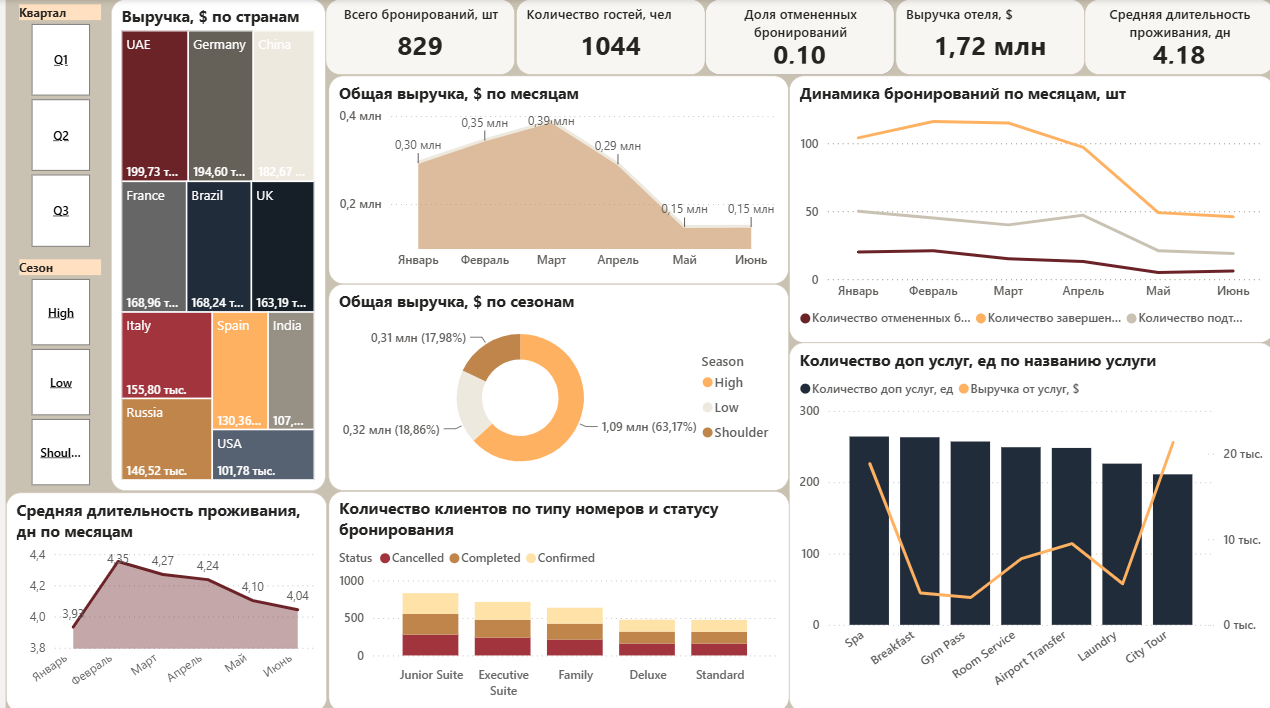

The page's visual inventory and layout, read from the dashboard file:
{"tool":"powerbi","page":{"name":"Отчет по бронированиям","canvas":[1280,720],"ordinal":0},"visuals":[{"type":"card","title":"Всего бронирований, шт ","fields":{"Values":["Таблица мер.Количество бронирований"]},"box":[322.9,0,191.6,76.8],"z":0},{"type":"card","title":"Количество гостей, чел","fields":{"Values":["Таблица мер.Количество клиентов, чел"]},"box":[514.5,0,191.6,76.8],"z":1000},{"type":"card","title":"Средняя длительность проживания, дн","fields":{"Values":["Количество доп услуг, ед.Средняя длительность проживания"]},"box":[1088.4,0,191.6,76.8],"z":2000},{"type":"card","title":"Выручка отеля, $","fields":{"Values":["Таблица мер.Выручка общая"]},"box":[897.8,0,191.6,76.8],"z":3000},{"type":"slicer","fields":{"Values":["Calendar.Квартал"]},"box":[0,0,108.9,256.8],"z":4000},{"type":"slicer","fields":{"Values":["Bookings.Season"]},"box":[0,256.8,108.9,240.2],"z":5000},{"type":"areaChart","title":"Общая выручка, $ по месяцам","fields":{"Category":["Calendar.Месяц"],"Y":["Таблица мер.Выручка общая"]},"box":[325.6,77.2,464.9,210.5],"z":6000},{"type":"columnChart","title":"Количество клиентов по типу номеров и статусу бронирования","fields":{"Category":["Rooms.RoomType"],"Series":["Bookings.Status"],"Y":["Таблица мер.Количество клиентов, чел"]},"box":[325,496.7,465,223.3],"z":7000},{"type":"treemap","title":"Выручка, $ по странам","fields":{"Group":["Clients.Country"],"Values":["Таблица мер.Выручка общая"]},"box":[106,0,216.5,496.7],"z":8000},{"type":"lineStackedColumnComboChart","title":"Количество доп услуг, ед по названию услуги ","fields":{"Category":["ServicesCatalog.ServiceName"],"Y":["Таблица мер.Количество доп услуг, ед"],"Y2":["Таблица мер.Выручка от услуг (в периоде), $"]},"box":[790,346.7,490,373.3],"z":9000},{"type":"areaChart","title":"Средняя длительность проживания, дн по месяцам","fields":{"Category":["Calendar.Месяц"],"Y":["Таблица мер.Средняя длительность проживания, дней"]},"box":[0,498,324,222],"z":10000},{"type":"card","title":"Доля отмененных бронирований","fields":{"Values":["Таблица мер.Доля отмененных бронирований"]},"box":[706.1,0,191.6,76.8],"z":11000},{"type":"lineChart","title":"Динамика бронирований по месяцам, шт ","fields":{"Category":["Calendar.Месяц"],"Y":["Таблица мер.Количество отмененных бронирований, шт","Таблица мер.Количество законченных бронирований, шт","Таблица мер.Количество подтвержденных бронирований, шт"]},"box":[790,76.7,490,270],"z":12000},{"type":"donutChart","title":"Общая выручка, $ по сезонам","fields":{"Category":["Bookings.Season"],"Y":["Таблица мер.Выручка общая"]},"box":[325.6,287.7,464.9,209],"z":13000}]}

Visuals, with their boxes in screenshot pixels (x1, y1, x2, y2), scaled from the page's 1280x720 canvas onto the 1270x708 screenshot:
"Всего бронирований, шт " card: 320, 0, 510, 76
"Количество гостей, чел" card: 510, 0, 701, 76
"Средняя длительность проживания, дн" card: 1080, 0, 1269, 76
"Выручка отеля, $" card: 891, 0, 1081, 76
slicer - Calendar.Квартал: 0, 0, 108, 253
slicer - Bookings.Season: 0, 253, 108, 489
"Общая выручка, $ по месяцам" areaChart: 323, 76, 784, 283
"Количество клиентов по типу номеров и статусу бронирования" columnChart: 322, 488, 784, 707
"Выручка, $ по странам" treemap: 105, 0, 320, 488
"Количество доп услуг, ед по названию услуги " lineStackedColumnComboChart: 784, 341, 1269, 707
"Средняя длительность проживания, дн по месяцам" areaChart: 0, 490, 321, 707
"Доля отмененных бронирований" card: 701, 0, 891, 76
"Динамика бронирований по месяцам, шт " lineChart: 784, 75, 1269, 341
"Общая выручка, $ по сезонам" donutChart: 323, 283, 784, 488
